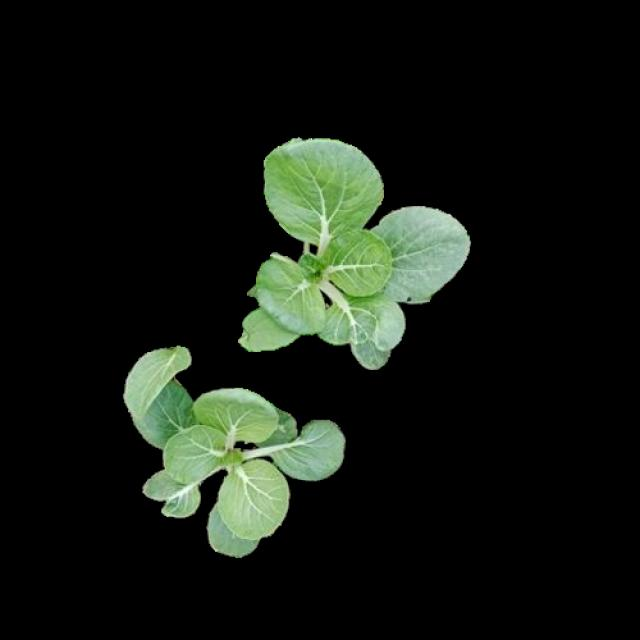not-mature: (240, 138, 468, 374), (120, 380, 344, 556)
unhealthy: (317, 284, 406, 373), (142, 464, 202, 516)
